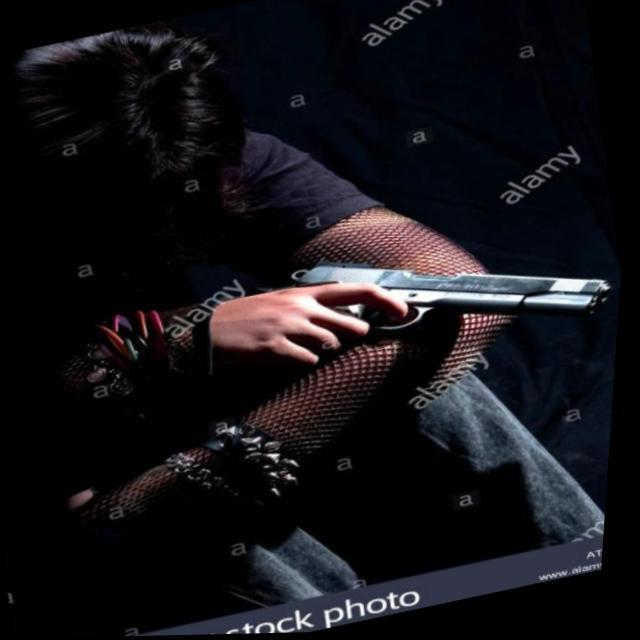weapon: (280, 201, 628, 383)
